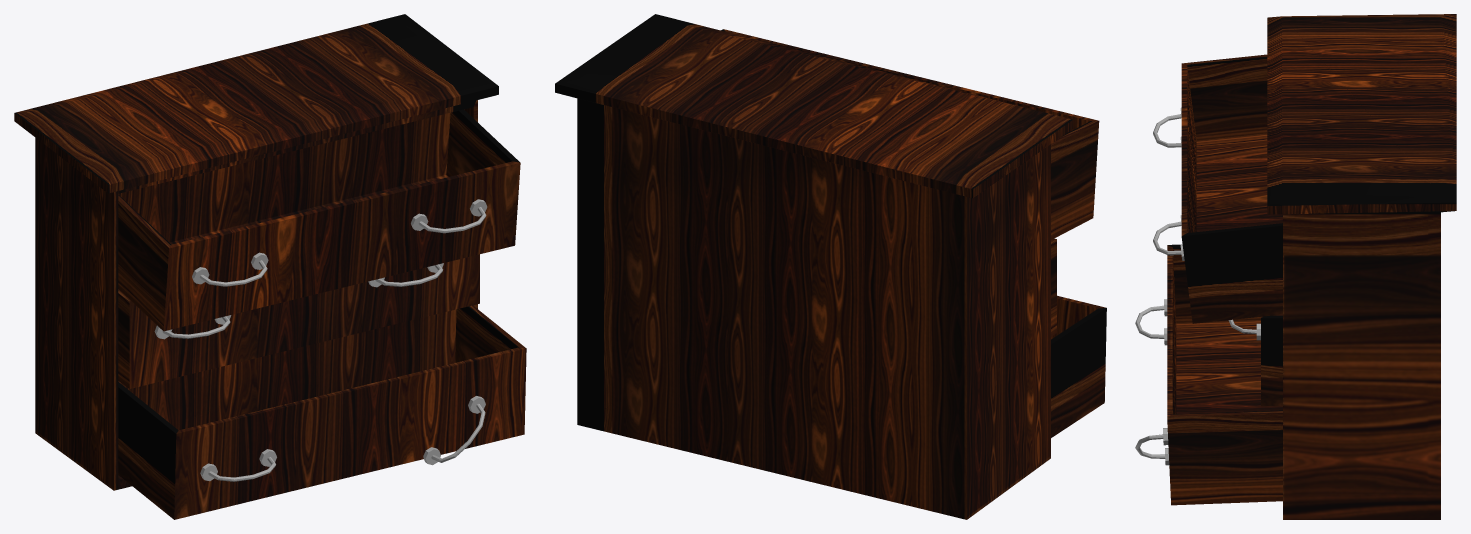
File: drawer.fbx
The picture shows the model from 3 angles, left to right: view 1: azimuth 30°, elevation 25°; view 2: azimuth 150°, elevation 25°; view 3: azimuth 270°, elevation 25°; orthographic projection. The views are drawn at different scales.
Visible parts, largest first — view 1: pCube13, pCube16, pCube14, pCube15, pCylinder18, pCylinder14, pCylinder16, pCylinder17; view 2: pCube13, pCube14, pCube16; view 3: pCube13, pCube16, pCube14, pCube15, pCylinder18, pCylinder14, pCylinder17.
Part boxes in pixels (x1,y1,x2,y2): pCube13: [14, 14, 498, 490]; pCube16: [118, 109, 520, 331]; pCube14: [118, 305, 526, 519]; pCube15: [118, 254, 479, 388]; pCylinder18: [423, 396, 485, 465]; pCylinder14: [200, 449, 276, 481]; pCylinder16: [192, 252, 268, 286]; pCylinder17: [411, 199, 487, 233]; pCube13: [555, 14, 1073, 519]; pCube14: [1051, 295, 1106, 437]; pCube16: [721, 29, 1099, 239]; pCube13: [1267, 14, 1456, 519]; pCube16: [1181, 54, 1282, 323]; pCube14: [1167, 244, 1282, 505]; pCube15: [1261, 314, 1282, 406]; pCylinder18: [1135, 428, 1169, 465]; pCylinder14: [1135, 299, 1167, 345]; pCylinder17: [1153, 215, 1184, 260].
Size of the model in its own units: 2.87 by 2.26 by 2.03.
2 materials, 1 textured.
